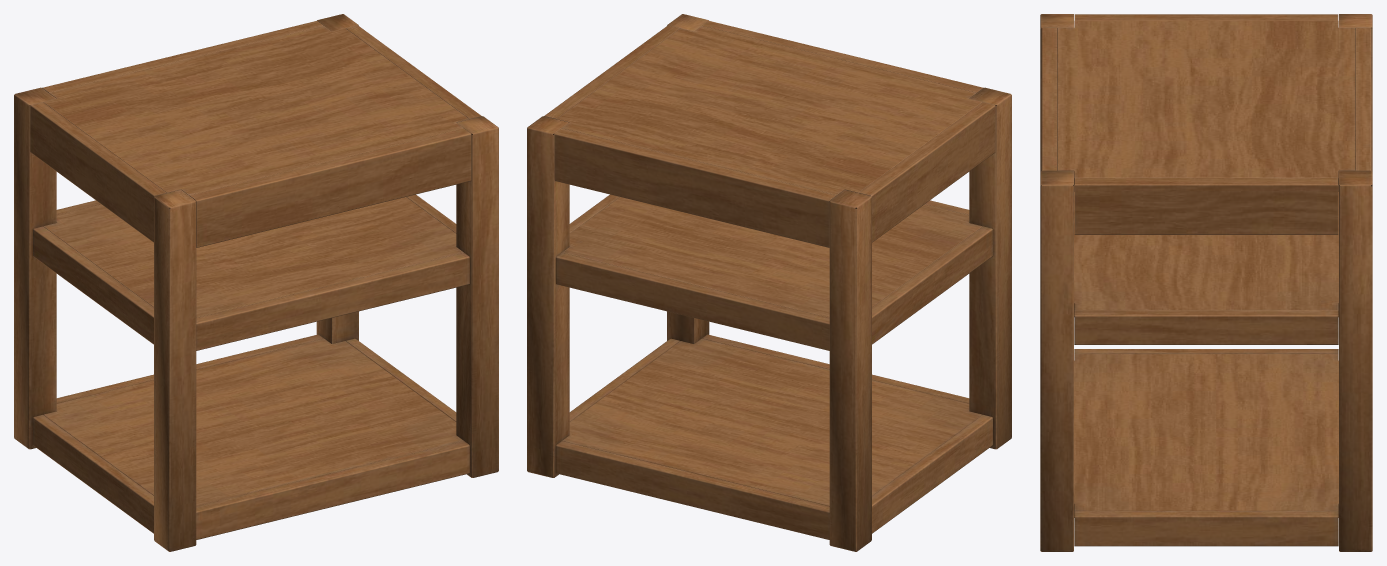
Rendered from side_table_01_1k.glb.
The picture shows the model from 3 angles, left to right: view 1: azimuth 30°, elevation 25°; view 2: azimuth 150°, elevation 25°; view 3: azimuth 270°, elevation 25°; orthographic projection. The views are drawn at different scales.
Visible parts, largest first — view 1: side_table_01; view 2: side_table_01; view 3: side_table_01.
Part boxes in pixels (box(x1,y1,x2,y2)): side_table_01: box(14, 14, 498, 551); side_table_01: box(527, 14, 1011, 551); side_table_01: box(1040, 14, 1372, 551).
Size of the model in its own units: 0.55 by 0.5507 by 0.45.
1 material, 1 textured.
